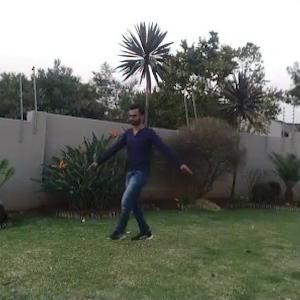land: (98, 85, 205, 260)
